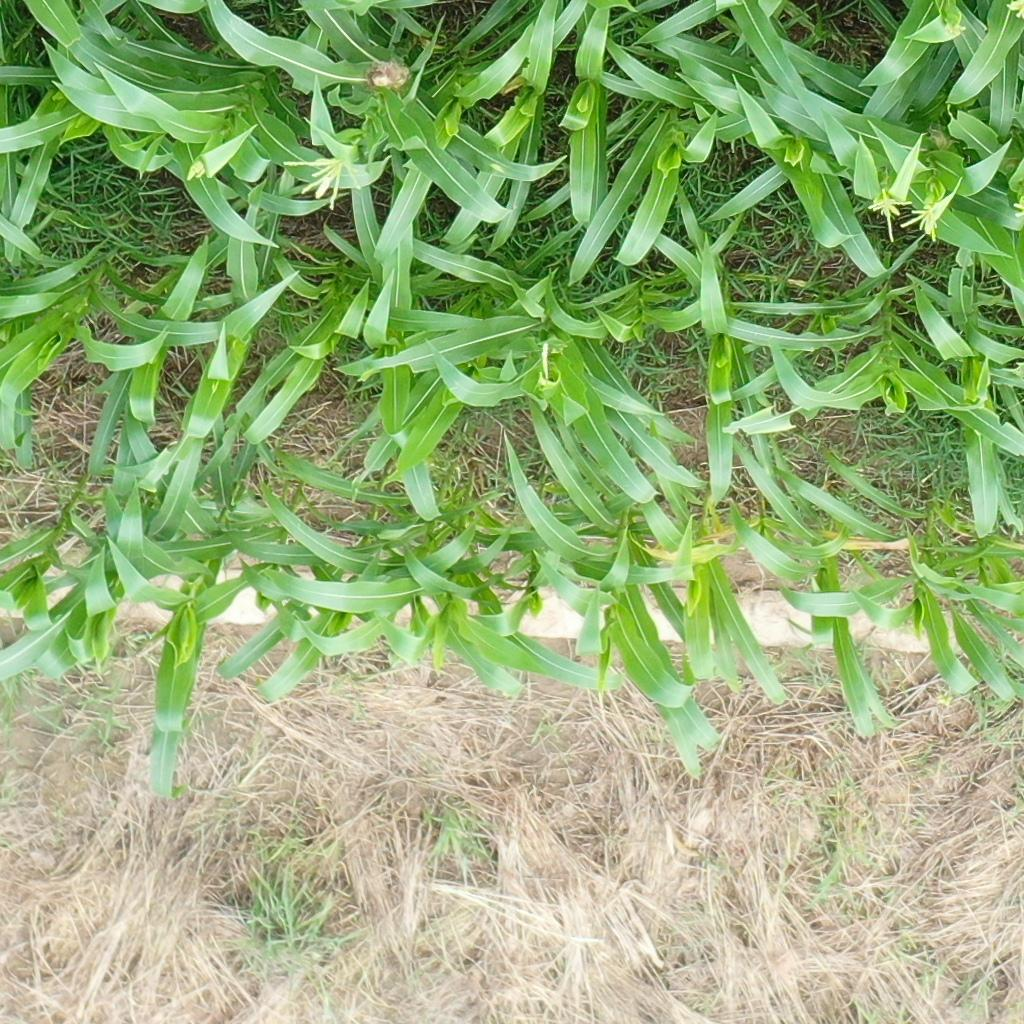Tassel: (870, 188, 947, 247), (277, 151, 352, 209), (943, 12, 971, 38), (1007, 190, 1024, 225), (185, 160, 209, 183), (1004, 1, 1024, 21)
